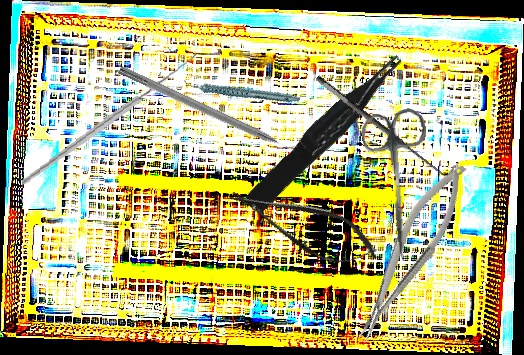Handpiece: (182, 56, 301, 126)
Hook Surgical: (8, 41, 209, 188), (116, 64, 302, 160), (313, 64, 457, 184)
Iris Scissors: (360, 106, 437, 264)
Micro Scissor: (221, 173, 387, 279)
Needle Holder: (338, 155, 482, 348)
Tissue Forceps: (239, 51, 415, 214)
